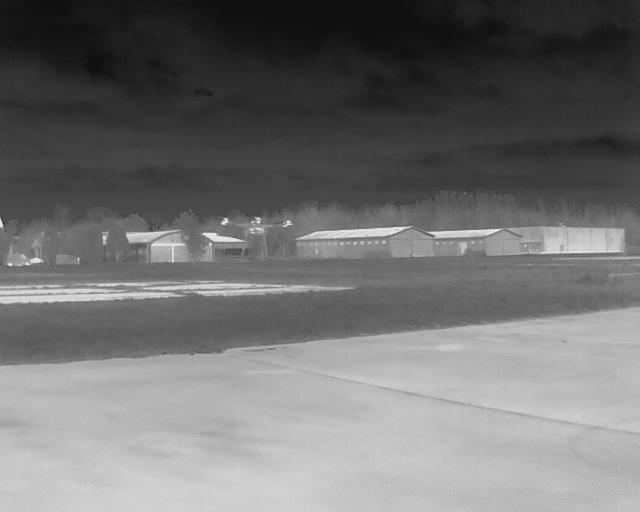drone: (215, 212, 294, 260)
